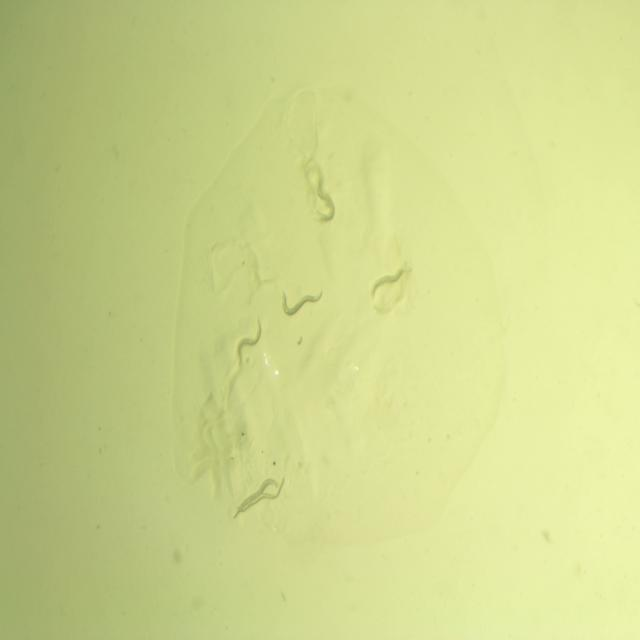worm: (229, 476, 280, 523), (235, 474, 288, 516), (366, 258, 408, 307), (276, 281, 324, 322), (233, 316, 266, 373), (310, 177, 340, 226)
